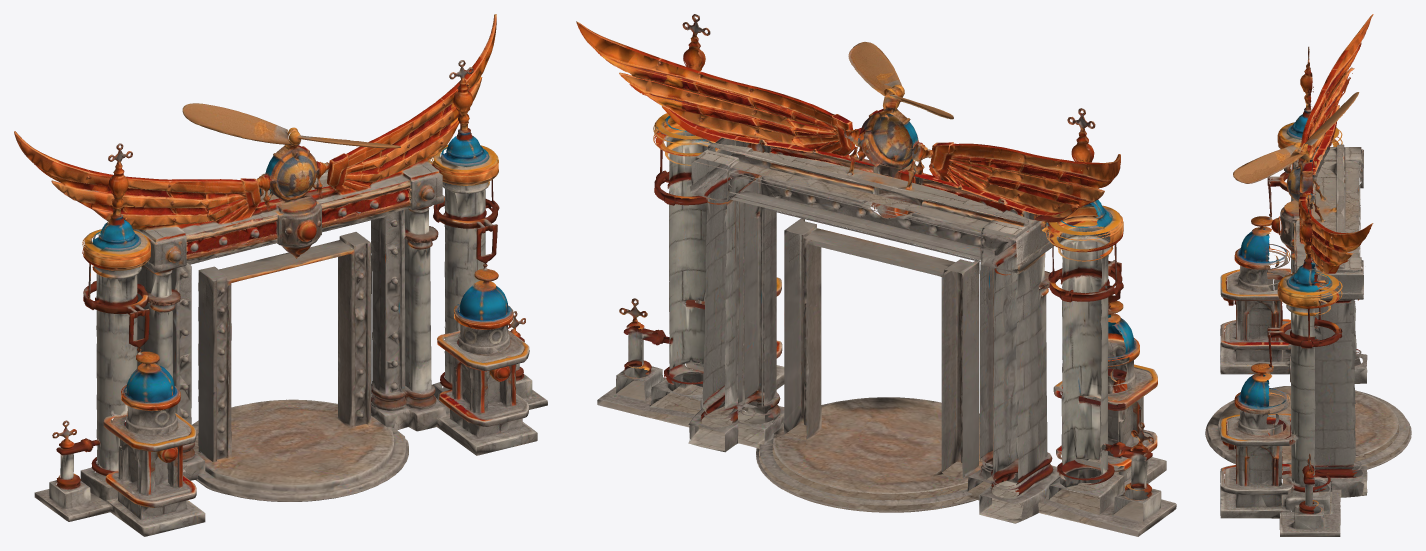
File: sky_gate.glb
The picture shows the model from 3 angles, left to right: view 1: azimuth 30°, elevation 25°; view 2: azimuth 150°, elevation 25°; view 3: azimuth 270°, elevation 25°; orthographic projection. The views are drawn at different scales.
Size of the model in its own units: 1.9 by 1.34 by 0.7936.
1 material, 1 textured.
